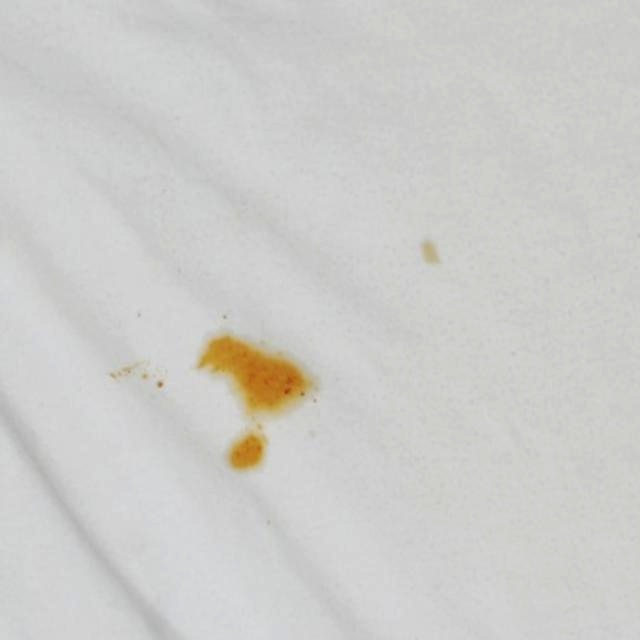kimchi: (187, 302, 325, 490), (98, 349, 174, 408), (412, 238, 452, 270), (130, 307, 149, 324)
